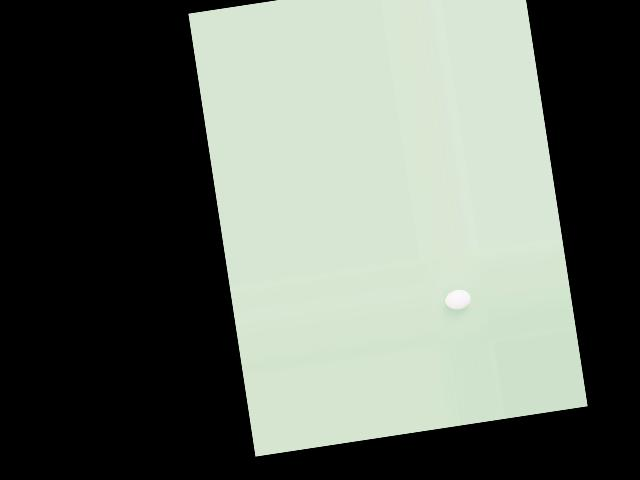egg: (443, 287, 472, 311)
